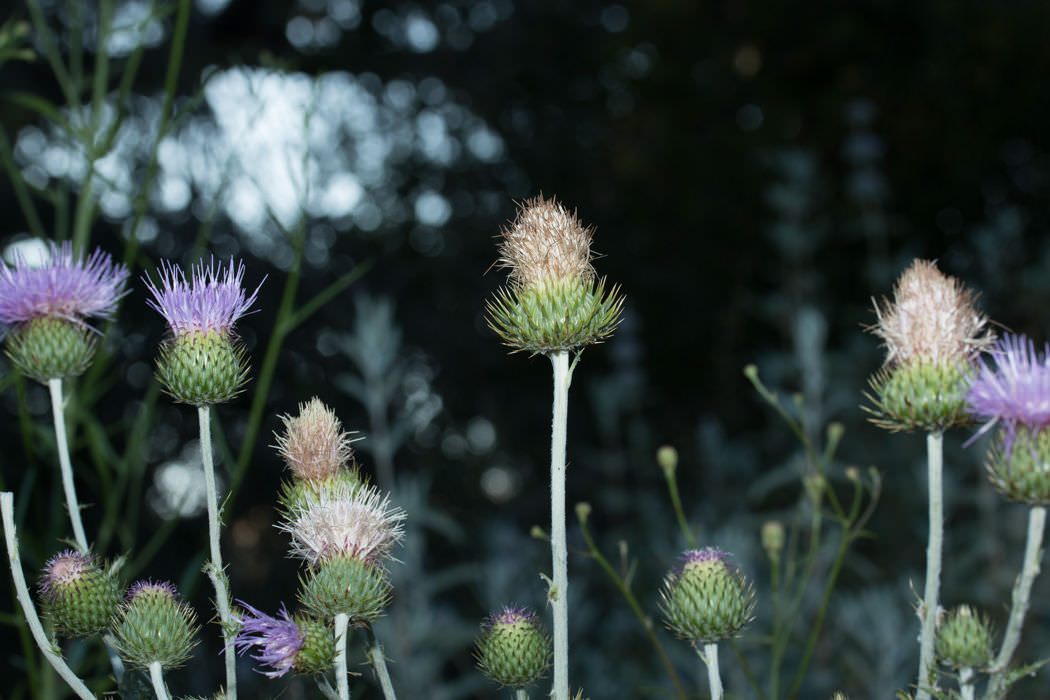thistle: (480, 191, 626, 362), (4, 242, 125, 392), (141, 259, 263, 407), (960, 336, 1050, 514), (244, 617, 352, 678)
